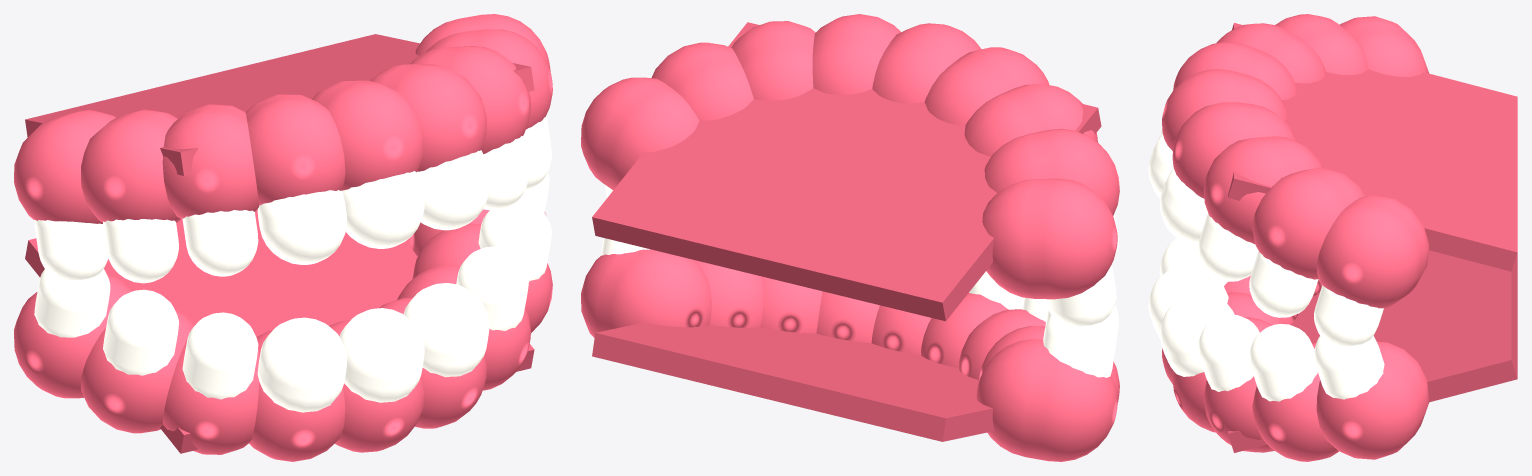
Rendered from dentadura.glb.
3 views of the same model, side by side, from view 1: azimuth 30°, elevation 25°; view 2: azimuth 150°, elevation 25°; view 3: azimuth 270°, elevation 25° (orthographic). The views are drawn at different scales.
Parts seen in each view (by area): view 1: dentadura; view 2: dentadura; view 3: dentadura.
Part boxes in pixels (x1,y1,x2,y2): dentadura: (14, 14, 552, 461); dentadura: (581, 14, 1119, 461); dentadura: (1148, 14, 1517, 461).
Bounding box in the file's own units: 0.297 × 0.1963 × 0.2003.
